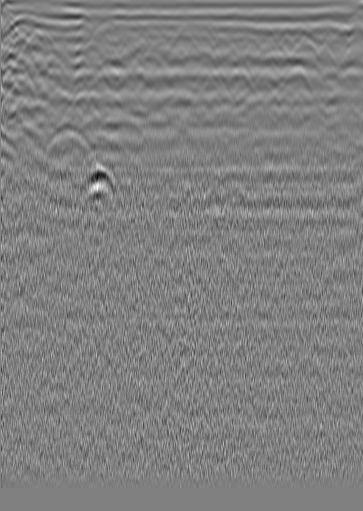가스: (77, 164, 118, 203)
상수: (295, 26, 315, 46)
오수: (30, 30, 50, 50)
우수: (171, 31, 191, 51)
